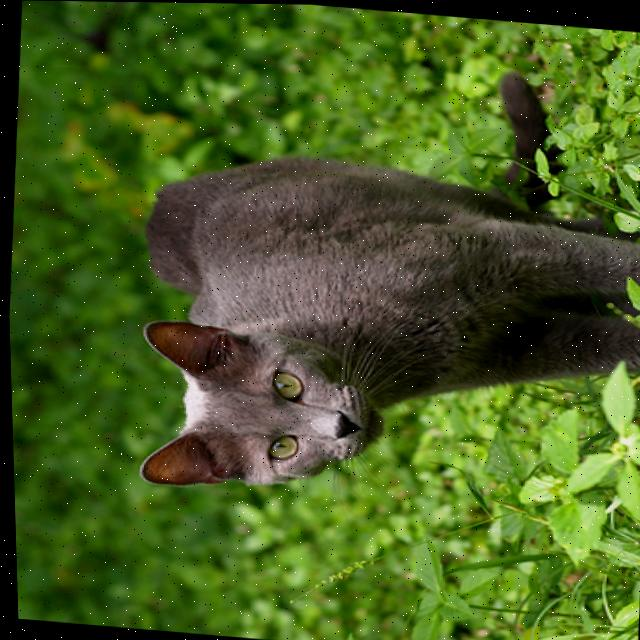Russian Blue: (110, 36, 640, 525)
